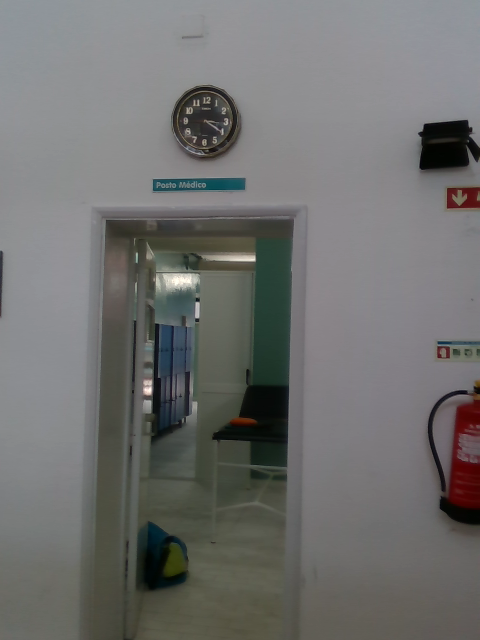open: (78, 203, 309, 639)
